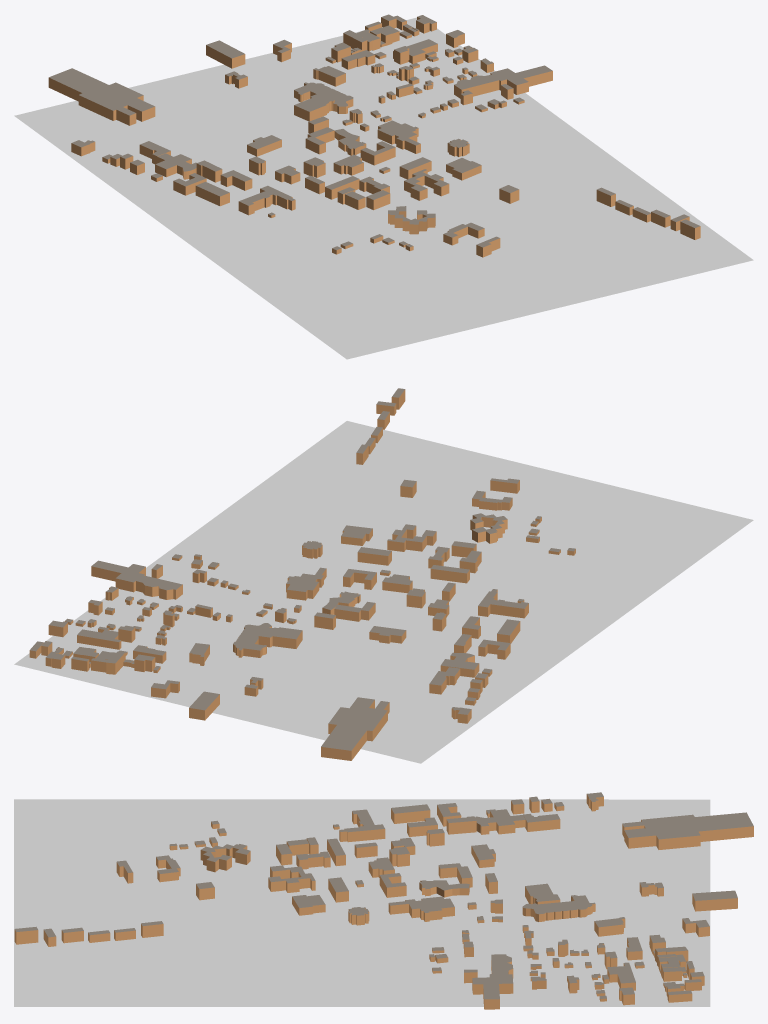
The model's file is buildings.glb.
3 renders of one model, top to bottom at view 1: azimuth 30°, elevation 25°; view 2: azimuth 150°, elevation 25°; view 3: azimuth 270°, elevation 25°, orthographic. The views are drawn at different scales.
Visible parts, largest first — view 1: Terrain_envelope, map_14.osm_buildings; view 2: Terrain_envelope, map_14.osm_buildings; view 3: Terrain_envelope, map_14.osm_buildings.
Boxes of the visible parts, bbox=[...] form: Terrain_envelope: bbox=[14, 17, 753, 359]; map_14.osm_buildings: bbox=[48, 14, 700, 257]; Terrain_envelope: bbox=[14, 421, 753, 763]; map_14.osm_buildings: bbox=[29, 388, 575, 760]; Terrain_envelope: bbox=[14, 799, 710, 1006]; map_14.osm_buildings: bbox=[14, 792, 753, 1009].
Size of the model in its own units: 785 by 80.36 by 1116.
